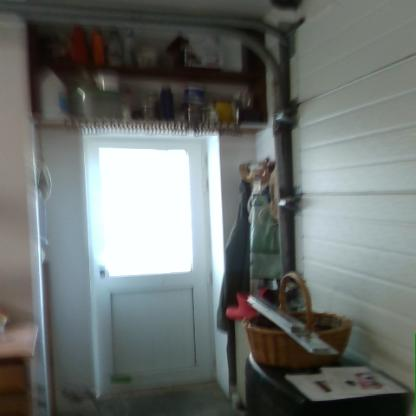closed: (68, 124, 228, 402)
